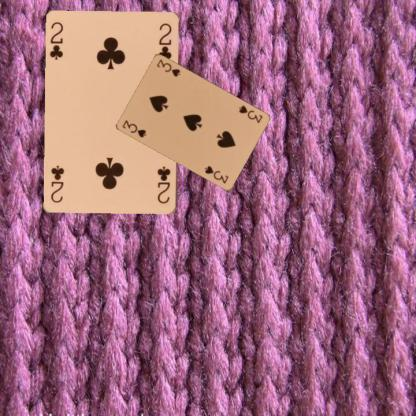2c: (47, 20, 65, 62), (154, 164, 172, 205)
3s: (120, 118, 148, 140), (236, 103, 263, 124)
